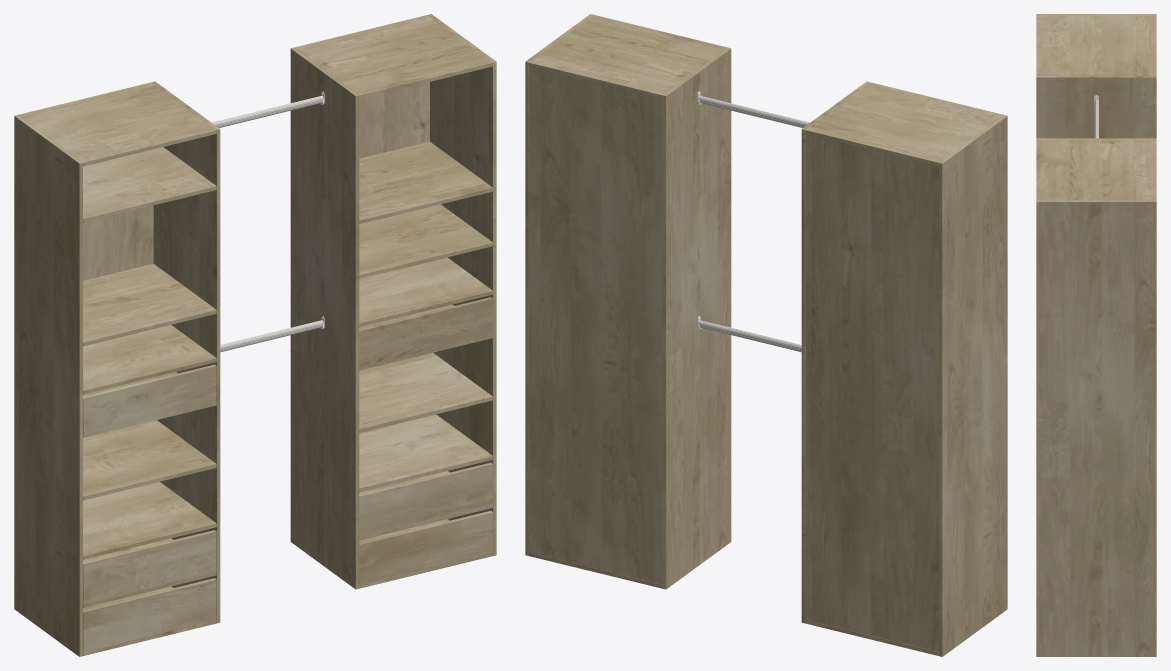
File: abo-B01LWRYSFS.glb
3 views of the same model, side by side, from view 1: azimuth 30°, elevation 25°; view 2: azimuth 150°, elevation 25°; view 3: azimuth 270°, elevation 25° (orthographic). The views are drawn at different scales.
Size of the model in its own units: 1.77 by 2 by 0.48.
Materials: 1 (1 with a texture image).
